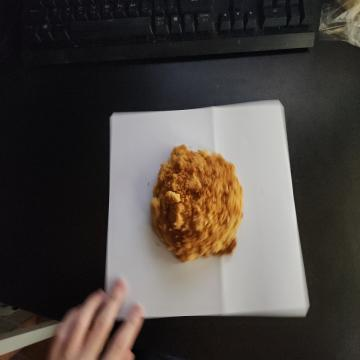soboru_bread: (153, 143, 244, 265)
